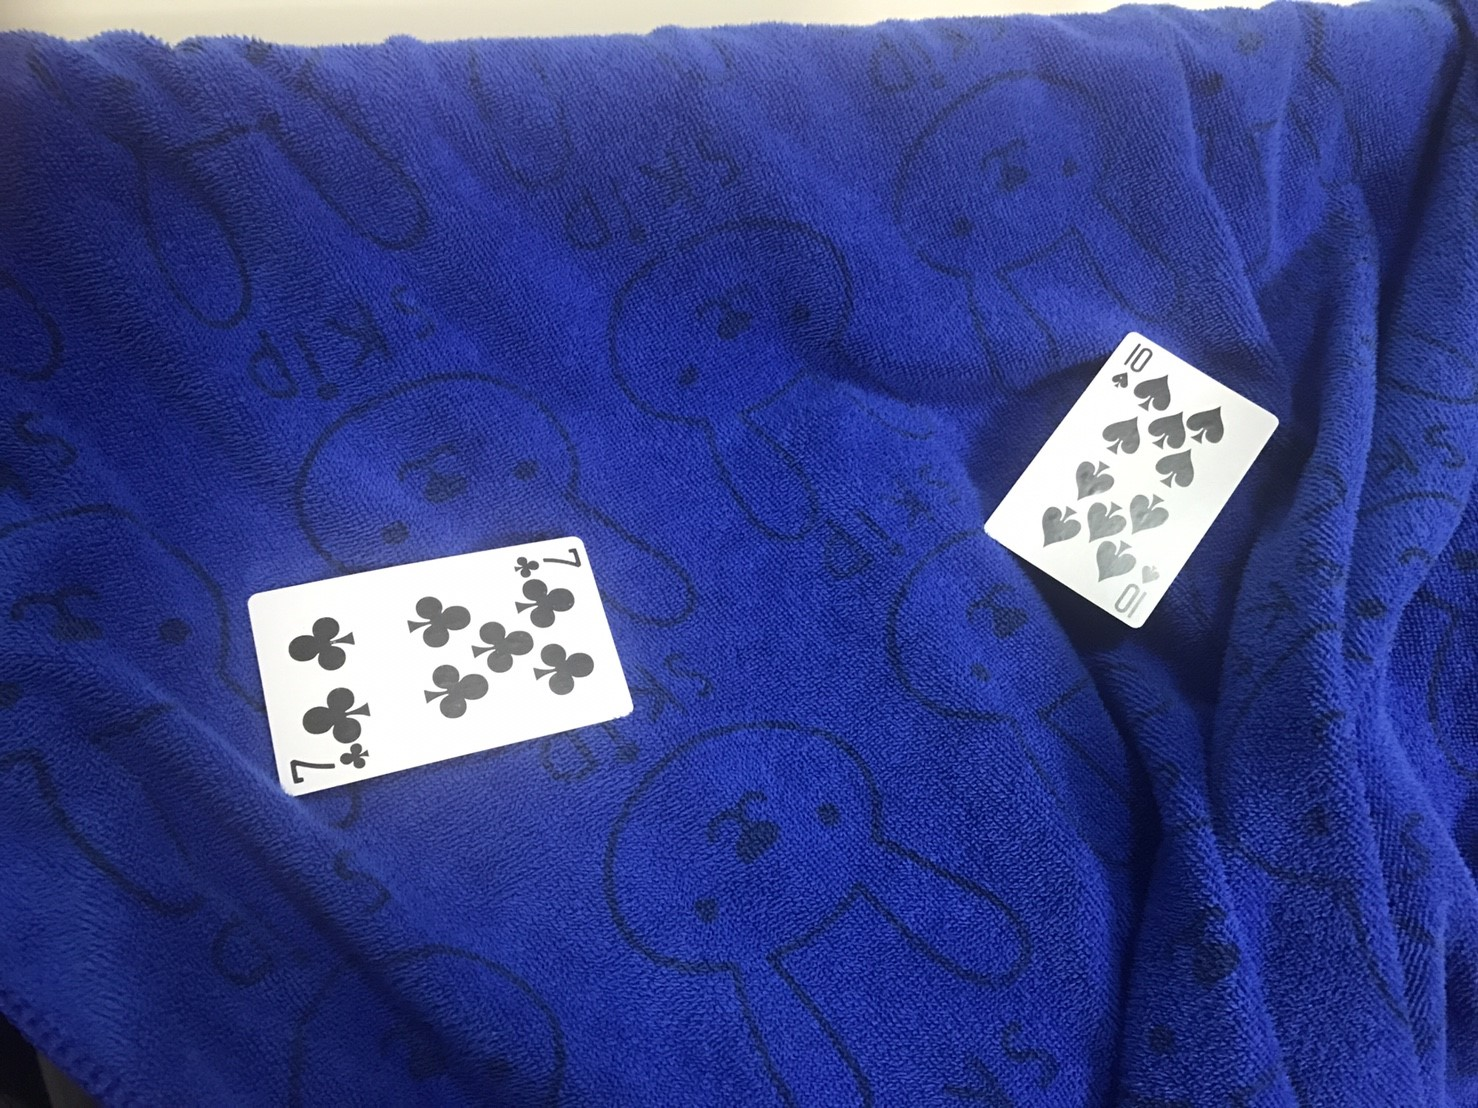clubs: (278, 611, 363, 673), (296, 686, 386, 741), (460, 608, 530, 676), (511, 571, 574, 635), (405, 591, 470, 651), (422, 661, 484, 720), (535, 642, 598, 698), (506, 548, 538, 580), (341, 741, 371, 773)
spades: (1039, 498, 1086, 557), (1125, 490, 1175, 544), (1185, 407, 1236, 459), (1071, 457, 1118, 512), (1097, 411, 1146, 462), (1152, 445, 1200, 495), (1088, 497, 1131, 551), (1145, 409, 1192, 457), (1097, 537, 1138, 582), (1135, 375, 1174, 420), (1139, 560, 1160, 588), (1111, 365, 1131, 395)
